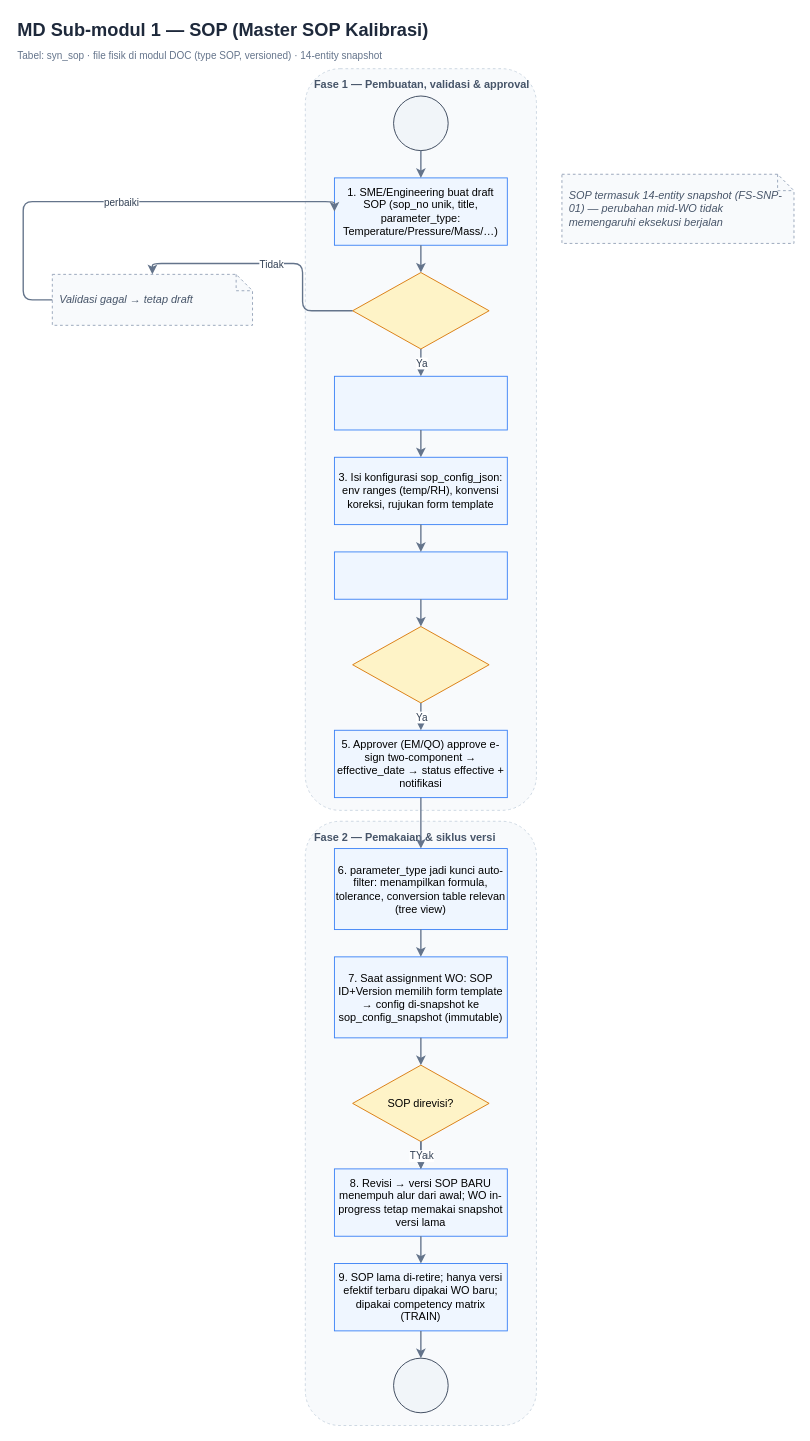
The diagram is 810 pixels wide and 1441 high, and some of its shapes have lost their labels. The centre of each missing label's shape, as x and y in pixels:
2. Upload file fisik SOP (PDF) → dokumen modul DOC, versioned: point 420,402
4. Submit → in_review; Reviewer memeriksa isi & file: point 420,575
Mulai: point 420,123
Review lolos?: point 420,664
Selesai: point 420,1385
Validasi & sop_no unik?: point 420,310
